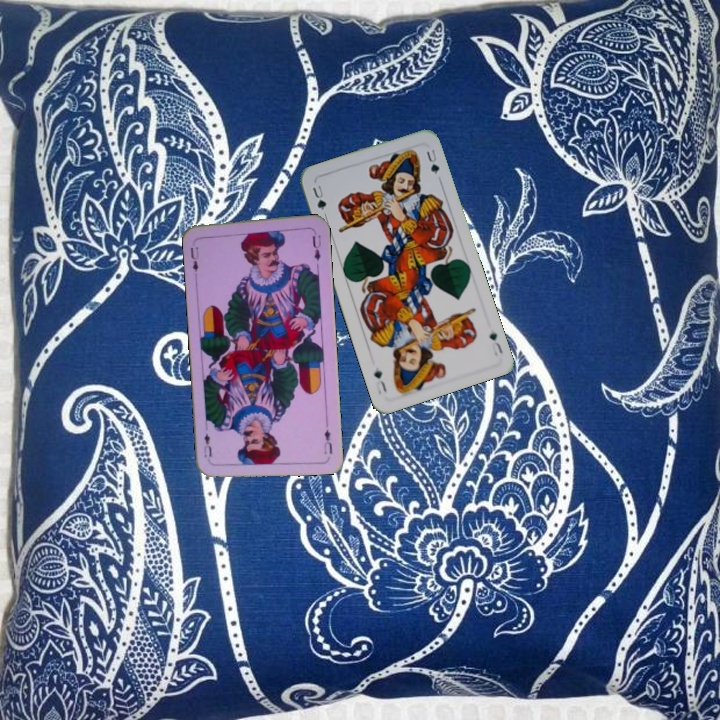EU: (320, 425, 335, 457), (186, 243, 201, 274)
GU: (308, 181, 329, 213), (485, 328, 505, 358)
